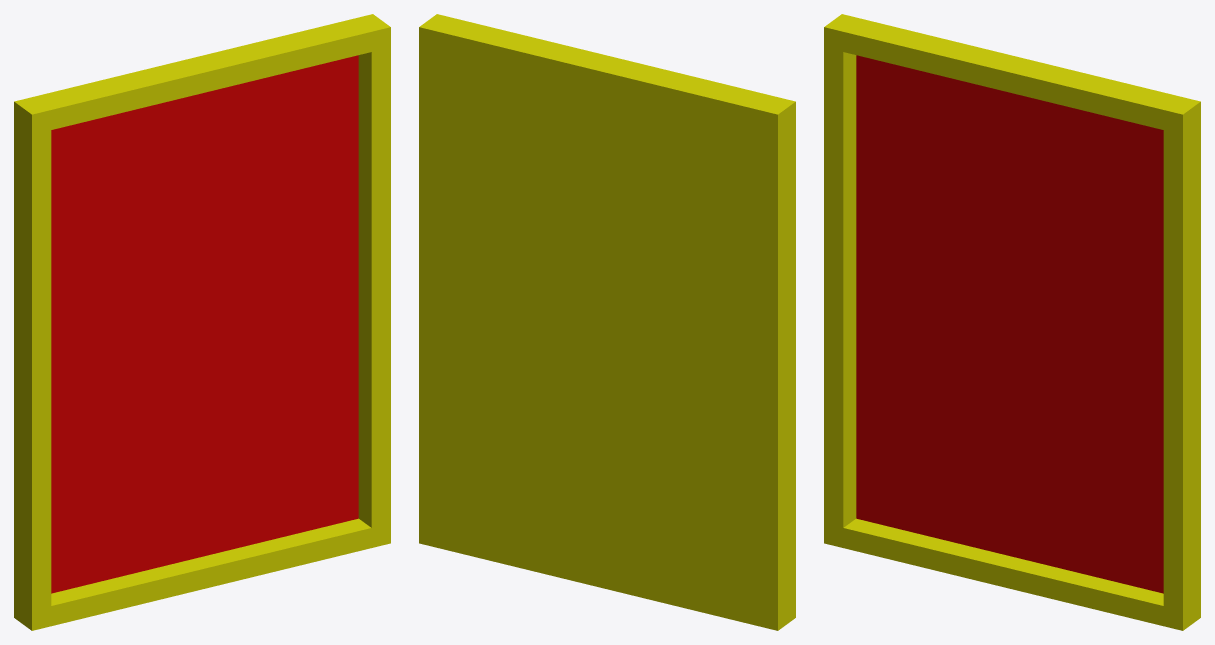
File: HangingFrame.fbx
The picture shows the model from 3 angles, left to right: view 1: azimuth 30°, elevation 25°; view 2: azimuth 150°, elevation 25°; view 3: azimuth 330°, elevation 25°; orthographic projection.
Visible parts, largest first — view 1: HangingFrame; view 2: HangingFrame; view 3: HangingFrame.
Part boxes in pixels (bbox=[...]): HangingFrame: bbox=[14, 14, 390, 630]; HangingFrame: bbox=[419, 14, 795, 630]; HangingFrame: bbox=[824, 14, 1200, 630].
Size of the model in its own units: 1.3 by 1.79 by 0.1125.
